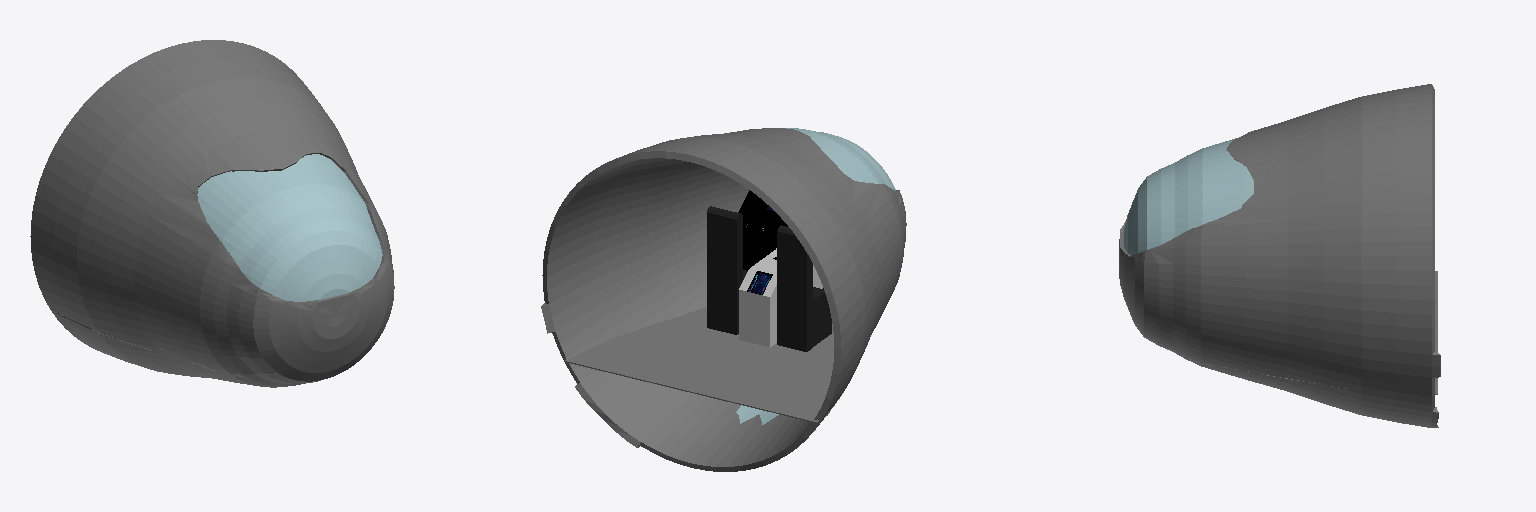
3 renders of one model, left to right at view 1: azimuth 30°, elevation 25°; view 2: azimuth 150°, elevation 25°; view 3: azimuth 270°, elevation 25°, orthographic.
Visible parts, largest first — view 1: Cylinder, Cylinder.4; view 2: Cylinder, Cube.4, Cube.2, Cube.2_1, Cube, Cylinder.4, Cube.1, Cube.3_1; view 3: Cylinder, Cylinder.4.
Part boxes in pixels (x1,y1,x2,y2): Cylinder: (30, 40, 394, 387); Cylinder.4: (197, 154, 382, 301); Cylinder: (541, 128, 906, 471); Cube.4: (565, 307, 843, 422); Cube.2: (707, 206, 742, 334); Cube.2_1: (777, 225, 812, 351); Cube: (739, 248, 822, 347); Cylinder.4: (736, 128, 895, 424); Cube.1: (738, 190, 823, 288); Cube.3_1: (813, 287, 831, 346); Cylinder: (1119, 84, 1440, 427); Cylinder.4: (1123, 138, 1253, 255).
Bounding box in the file's own units: 519 × 519 × 485.
Materials: 8 (1 with a texture image).